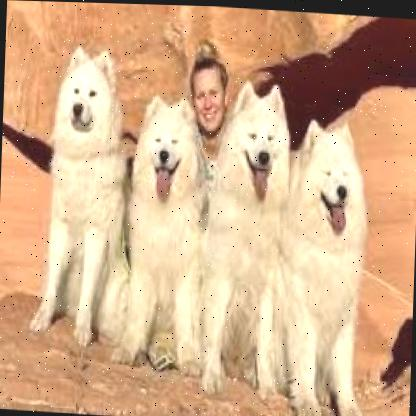dog: (28, 40, 137, 349), (266, 114, 374, 416), (197, 77, 294, 401), (109, 91, 211, 377)
